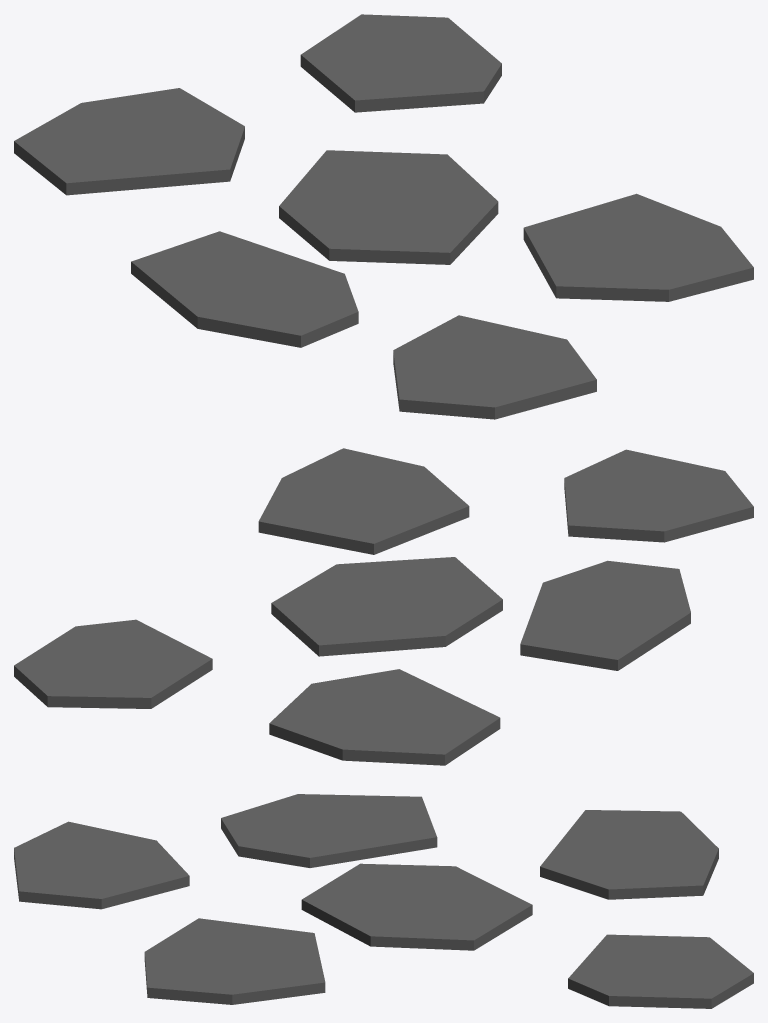
The model's file is Tiles.fbx.
3 renders of one model, top to bottom at view 1: azimuth 30°, elevation 25°; view 2: azimuth 150°, elevation 25°; view 3: azimuth 270°, elevation 25°, orthographic. The views are drawn at different scales.
Parts seen in each view (by area): view 1: Cube.005; view 2: Cube.005; view 3: Cube.005.
Boxes of the visible parts, left/top/right/bottom form: Cube.005: left=14, top=14, right=753, bottom=419; Cube.005: left=14, top=448, right=753, bottom=765; Cube.005: left=14, top=794, right=753, bottom=1008.
Size of the model in its own units: 512 by 12.01 by 783.
